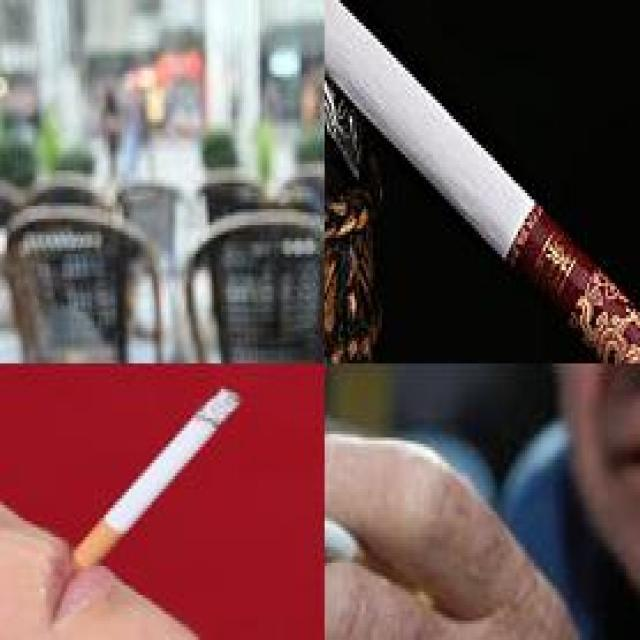cigarette: (324, 0, 638, 360), (59, 389, 243, 592), (324, 469, 420, 598)
